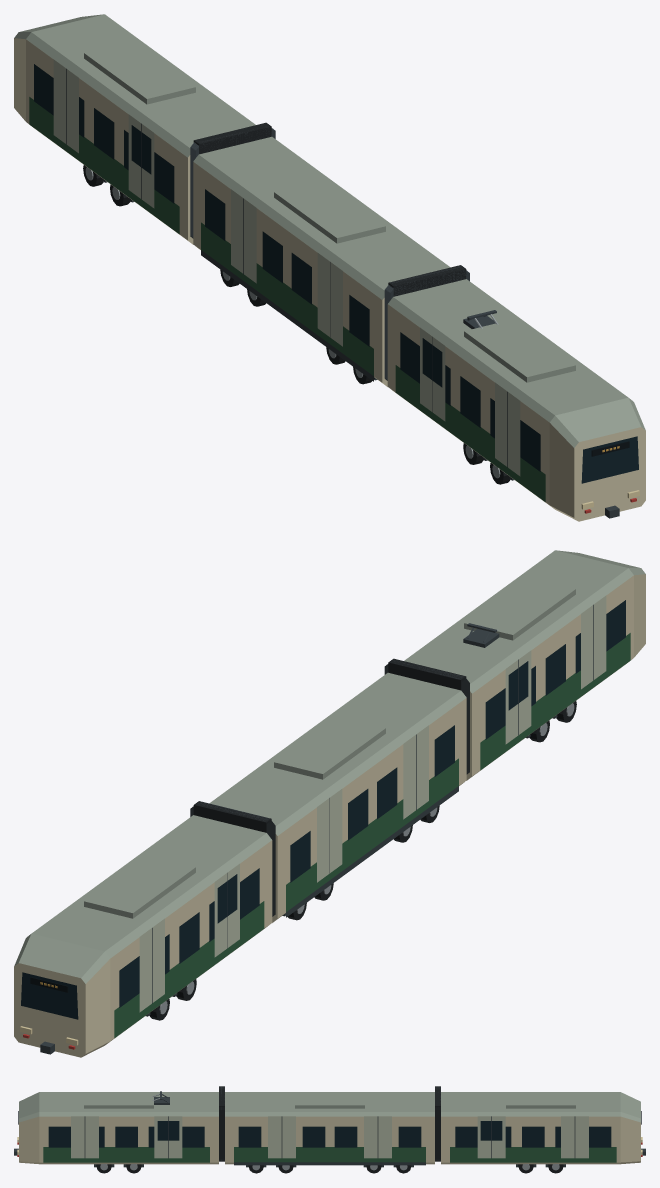
Rendered from tram-srs-artic.glb.
3 renders of one model, top to bottom at view 1: azimuth 30°, elevation 25°; view 2: azimuth 150°, elevation 25°; view 3: azimuth 270°, elevation 25°, orthographic. The views are drawn at different scales.
Visible parts, largest first — view 1: tram-srs-artic.segment-01.005, tram-srs-artic.segment-02.005, tram-srs-artic.segment-03.005; view 2: tram-srs-artic.segment-03.005, tram-srs-artic.segment-02.005, tram-srs-artic.segment-01.005; view 3: tram-srs-artic.segment-02.005, tram-srs-artic.segment-01.005, tram-srs-artic.segment-03.005.
Boxes of the visible parts, x1=… form: tram-srs-artic.segment-01.005: x1=384, y1=265, x2=645, y2=521; tram-srs-artic.segment-02.005: x1=190, y1=122, x2=450, y2=386; tram-srs-artic.segment-03.005: x1=14, y1=14, x2=255, y2=244; tram-srs-artic.segment-03.005: x1=14, y1=815, x2=272, y2=1057; tram-srs-artic.segment-02.005: x1=190, y1=672, x2=466, y2=922; tram-srs-artic.segment-01.005: x1=384, y1=550, x2=645, y2=780; tram-srs-artic.segment-02.005: x1=225, y1=1086, x2=440, y2=1173; tram-srs-artic.segment-01.005: x1=14, y1=1086, x2=224, y2=1173; tram-srs-artic.segment-03.005: x1=441, y1=1092, x2=645, y2=1173.
Bounding box in the file's own units: 2.45 × 3.35 × 28.04.
